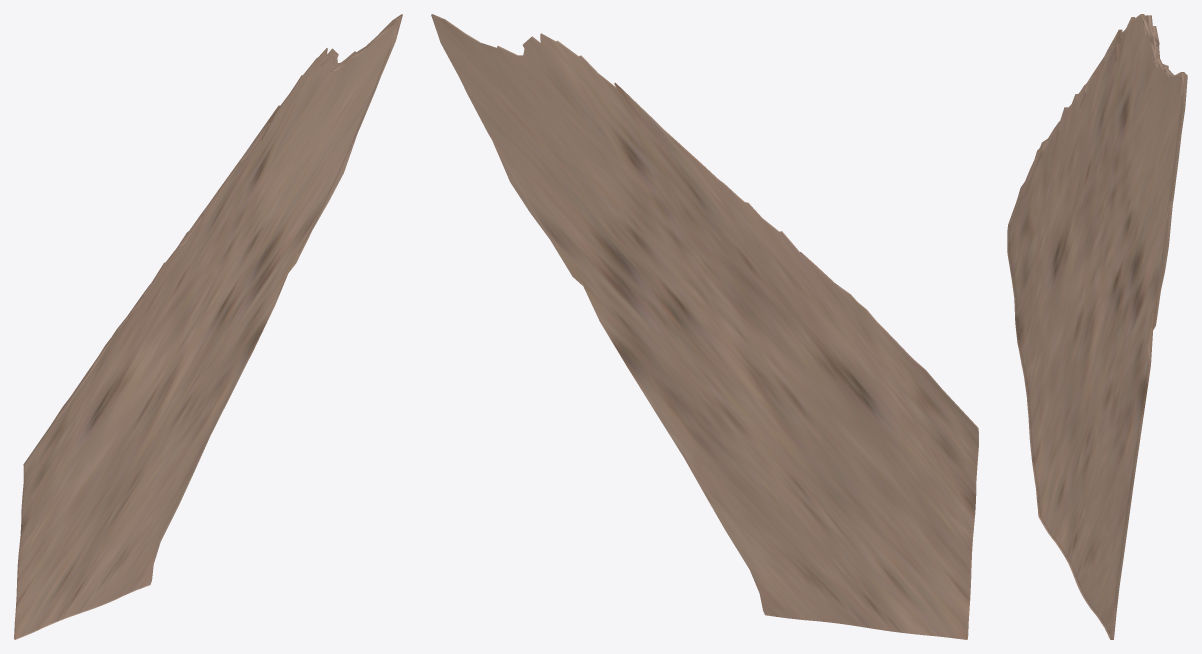
The picture shows the model from 3 angles, left to right: view 1: azimuth 30°, elevation 25°; view 2: azimuth 150°, elevation 25°; view 3: azimuth 270°, elevation 25°; orthographic projection. The views are drawn at different scales.
Bounding box in the file's own units: 15.59 × 16.71 × 3.51.
1 material, 1 textured.
